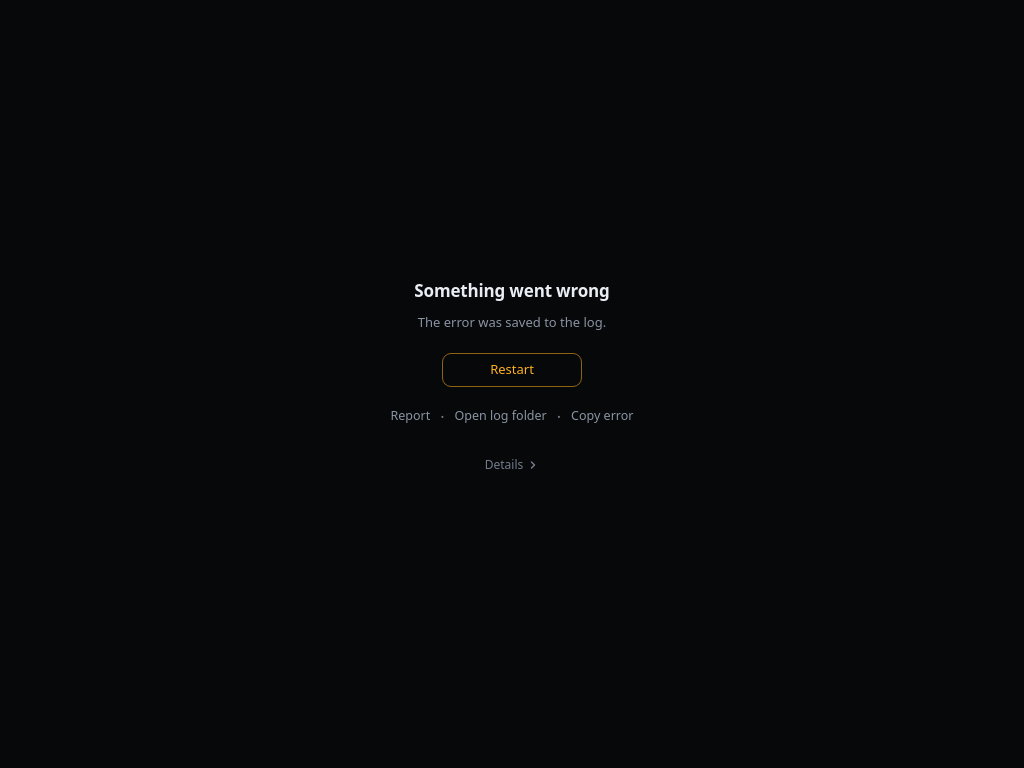
Test: GlobalErrorBoundary — fallback surface › says Copied after the error is copied
Step 1. Click the button "Copy error" → (602, 416), box top-left (563, 400), bottom-right (642, 432)
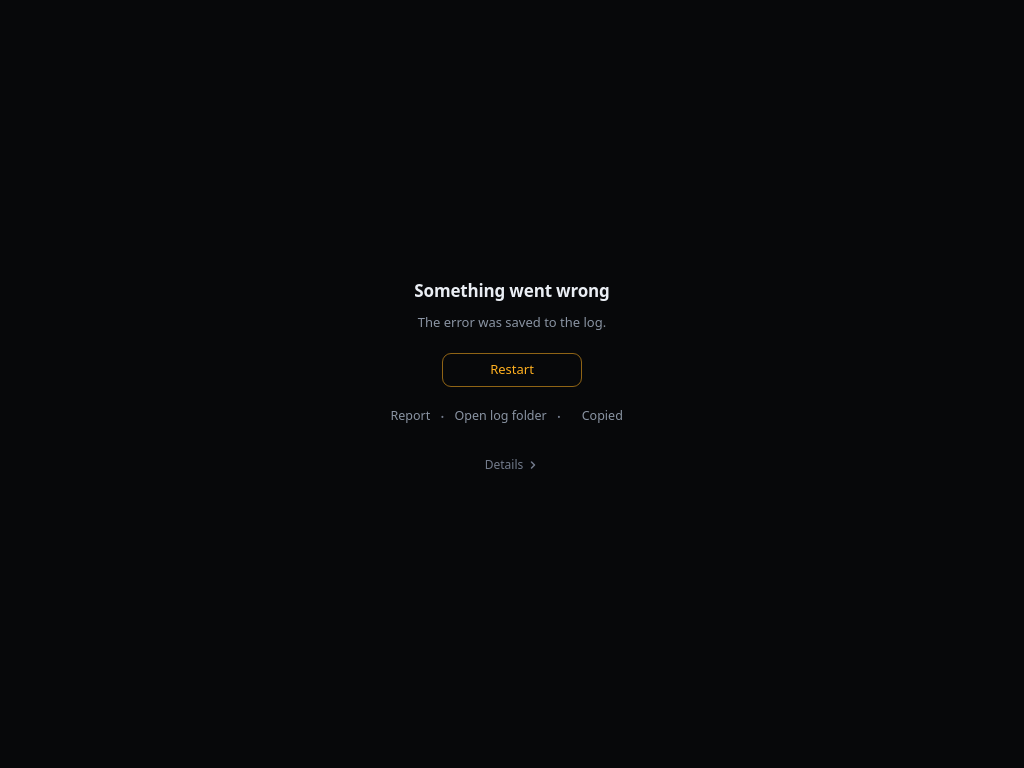
Expected: the button "Copied" is shown, top-left (563, 400), bottom-right (642, 432)
